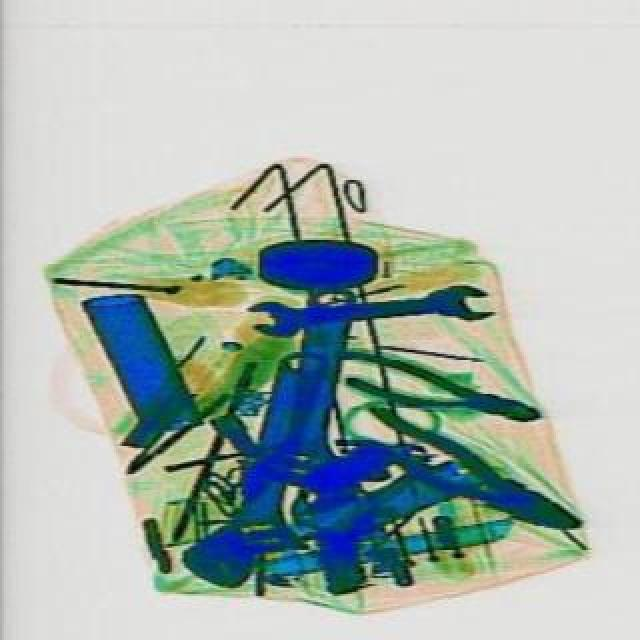scissors: (242, 280, 492, 334)
wrench: (342, 402, 588, 548), (324, 344, 544, 436)
